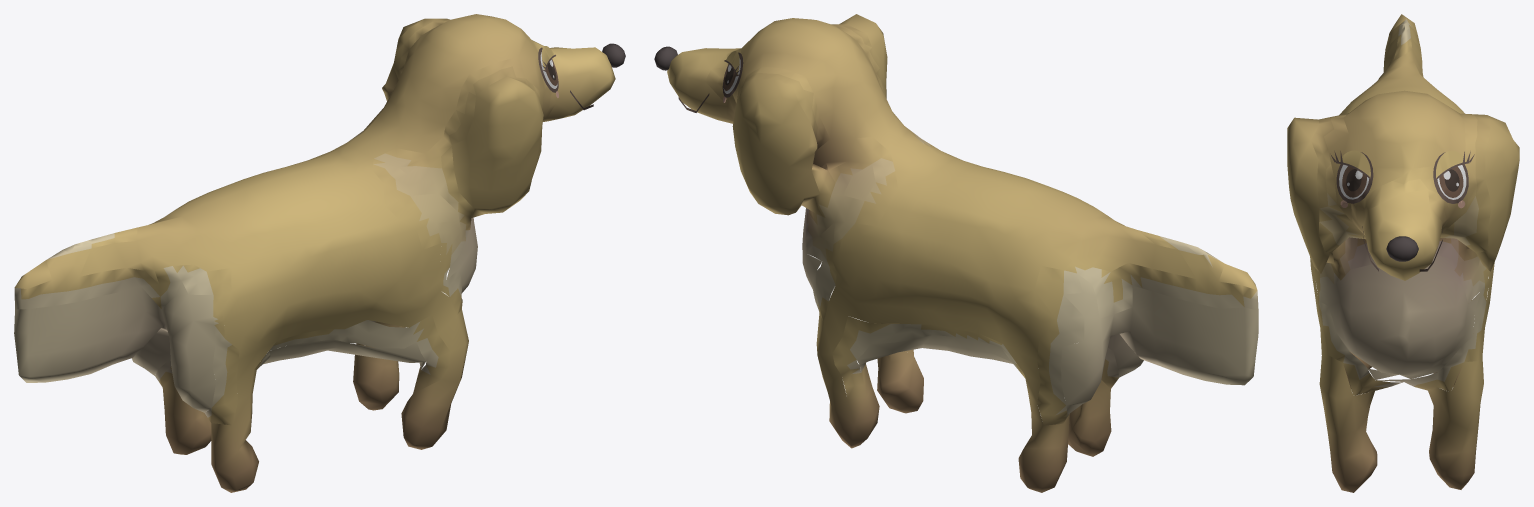
File: golden_retriever.glb
3 renders of one model, left to right at view 1: azimuth 30°, elevation 25°; view 2: azimuth 150°, elevation 25°; view 3: azimuth 270°, elevation 25°, orthographic. The views are drawn at different scales.
Visible parts, largest first — view 1: golden_retriever; view 2: golden_retriever; view 3: golden_retriever.
Part boxes in pixels (box(x1,y1,x2,y2)): golden_retriever: box(14, 14, 625, 492); golden_retriever: box(654, 14, 1258, 492); golden_retriever: box(1287, 14, 1519, 492).
Bounding box in the file's own units: 0.6598 × 0.4052 × 0.1976.
